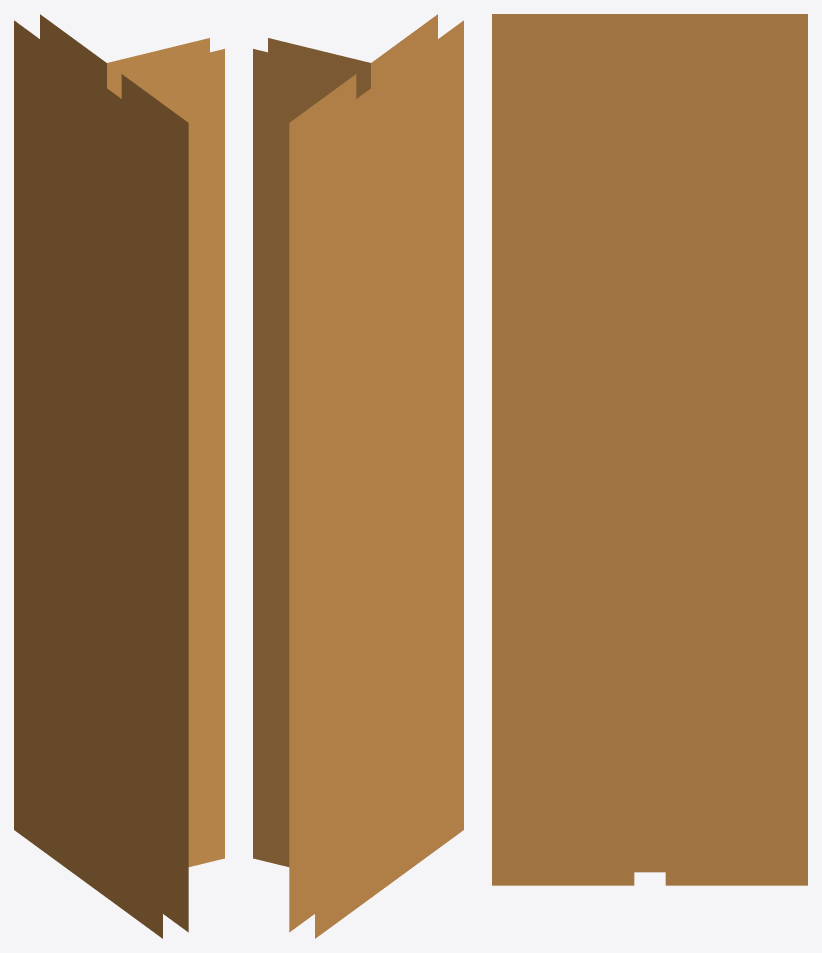
The model's file is Modular_Inside_T.fbx.
The picture shows the model from 3 angles, left to right: view 1: azimuth 30°, elevation 25°; view 2: azimuth 150°, elevation 25°; view 3: azimuth 270°, elevation 25°; orthographic projection. The views are drawn at different scales.
Parts seen in each view (by area): view 1: Modular_Inside_T; view 2: Modular_Inside_T; view 3: Modular_Inside_T.
Boxes of the visible parts, <box> form: Modular_Inside_T: <box>14,14,224,938</box>; Modular_Inside_T: <box>253,14,463,938</box>; Modular_Inside_T: <box>492,14,807,885</box>.
Size of the model in its own units: 50 by 300 by 100.
